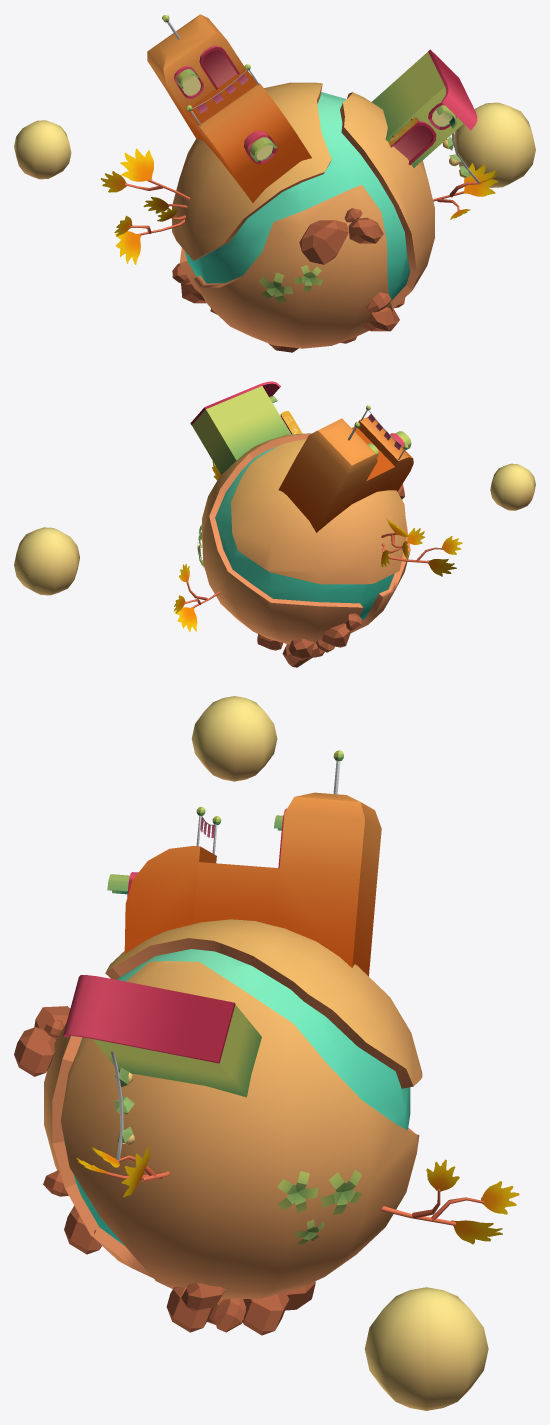
File: MSH_Planet_Arena1.fbx
The picture shows the model from 3 angles, top to bottom: view 1: azimuth 30°, elevation 25°; view 2: azimuth 150°, elevation 25°; view 3: azimuth 270°, elevation 25°; orthographic projection. The views are drawn at different scales.
Visible parts, largest first — view 1: blommor2, moon2, moon1; view 2: blommor2, moon2, moon1; view 3: blommor2, moon2, moon1.
Part boxes in pixels (bbox=[...]): blommor2: bbox=[101, 14, 500, 352]; moon2: bbox=[454, 102, 535, 187]; moon1: bbox=[14, 120, 71, 179]; blommor2: bbox=[174, 381, 462, 667]; moon2: bbox=[14, 527, 79, 595]; moon1: bbox=[490, 463, 535, 510]; blommor2: bbox=[14, 750, 519, 1335]; moon2: bbox=[364, 1287, 488, 1410]; moon1: bbox=[191, 696, 277, 781].
Bounding box in the file's own units: 15.04 × 8.47 × 8.12.
